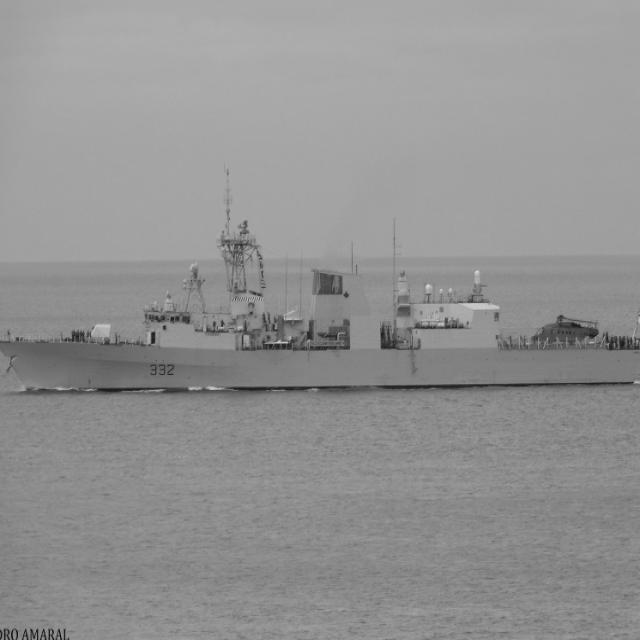Fragata: (1, 197, 640, 403)
